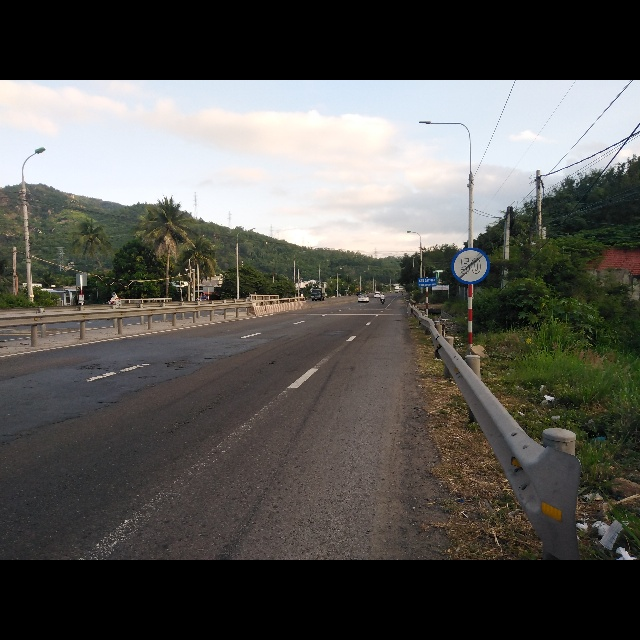Hết hạn chế tốc độ tối đa 50km/h: (449, 246, 491, 285)
